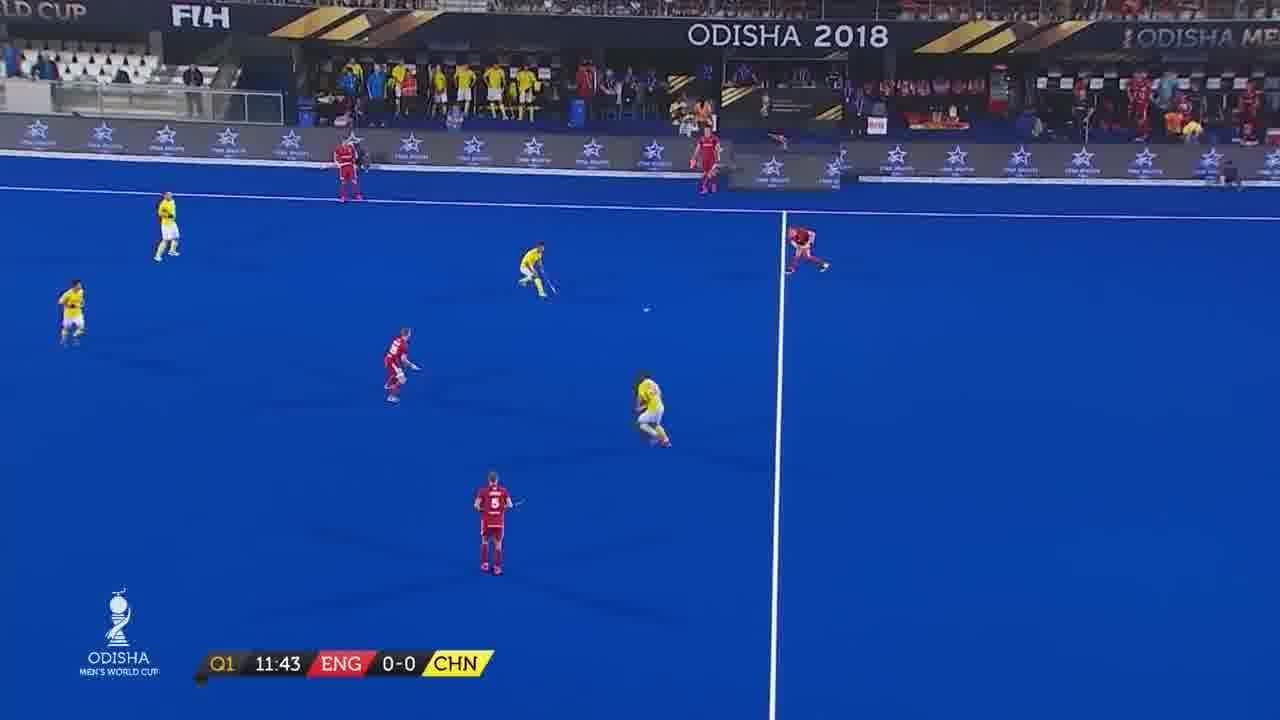ball: (632, 300, 656, 316)
